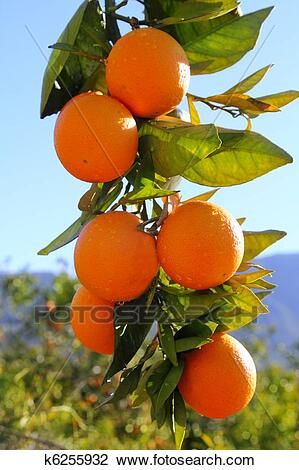orange: (169, 330, 257, 421), (106, 27, 190, 119), (54, 92, 138, 184), (74, 212, 158, 304), (158, 199, 242, 289), (72, 270, 153, 353)
